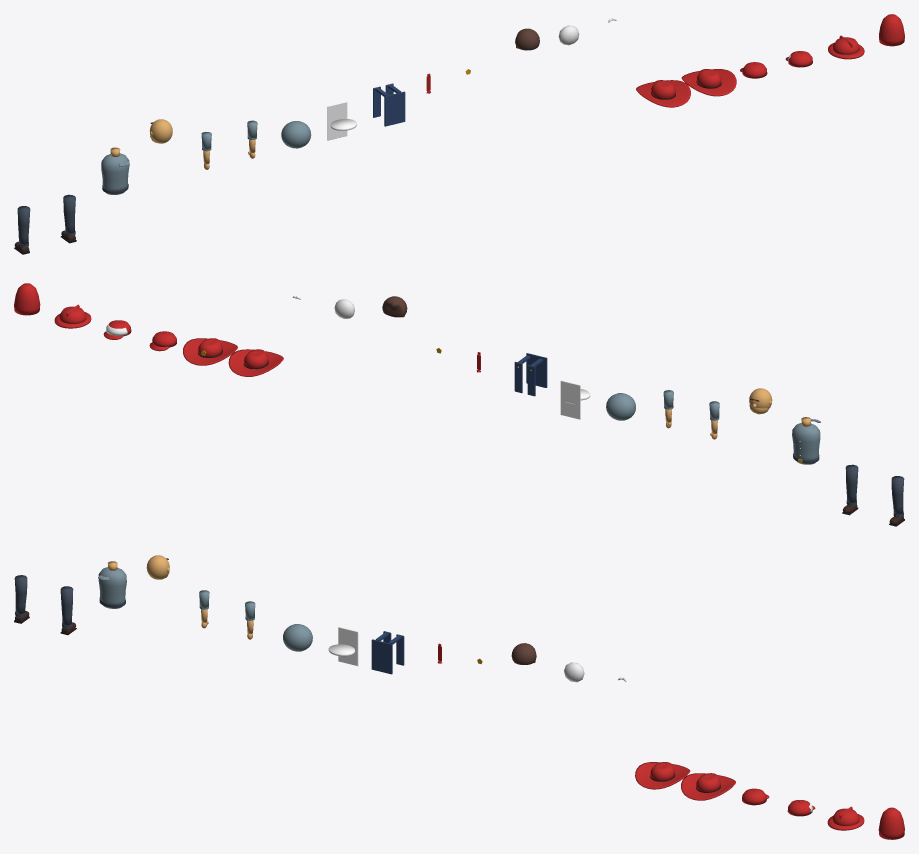
Rendered from people.glb.
The picture shows the model from 3 angles, top to bottom: view 1: azimuth 30°, elevation 25°; view 2: azimuth 150°, elevation 25°; view 3: azimuth 330°, elevation 25°; orthographic projection.
Visible parts, largest first — view 1: hat_cowboy, hat_sheriff, torso, vest, apron, hat_beehive, gut, hat_hardhat, legL, legR; view 2: hat_cowboy, hat_sheriff, torso, vest, apron, hat_beehive, gut, hat_hardhat, legL, legR, head; view 3: hat_cowboy, hat_sheriff, torso, vest, apron, hat_beehive, gut, hat_hardhat, legL, legR.
Boxes of the visible parts, x1,y1,x2,y2 form: hat_cowboy: (636,80,690,107); hat_sheriff: (681,69,736,96); torso: (101,147,129,194); vest: (373,83,405,126); apron: (327,101,356,140); hat_beehive: (879,14,904,46); gut: (281,121,311,148); hat_hardhat: (828,35,864,59); legL: (14,206,30,254); legR: (60,194,76,243); hat_cowboy: (228,349,283,376); hat_sheriff: (183,338,237,365); torso: (792,417,820,464); vest: (514,353,547,396); apron: (560,380,590,419); hat_beehive: (14,283,40,315); gut: (606,393,635,420); hat_hardhat: (54,304,91,328); legL: (889,476,904,526); legR: (842,464,858,515); head: (749,388,772,414); hat_cowboy: (635,762,690,789); hat_sheriff: (681,773,735,800); torso: (98,561,126,608); vest: (371,631,404,674); apron: (328,627,358,665); hat_beehive: (878,807,904,839); gut: (283,624,312,651); hat_hardhat: (827,806,864,830); legL: (14,575,29,623); legR: (60,586,76,635).
Bounding box in the file's own units: 19.37 × 2.12 × 1.19.
